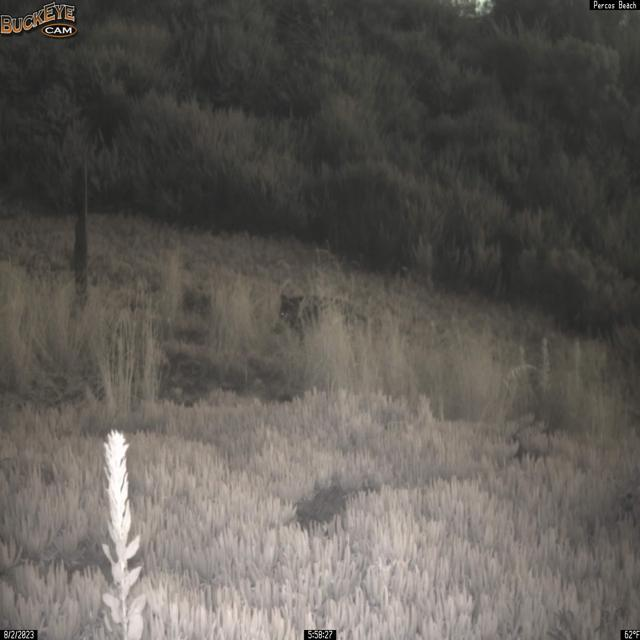pig: (272, 289, 372, 348)
